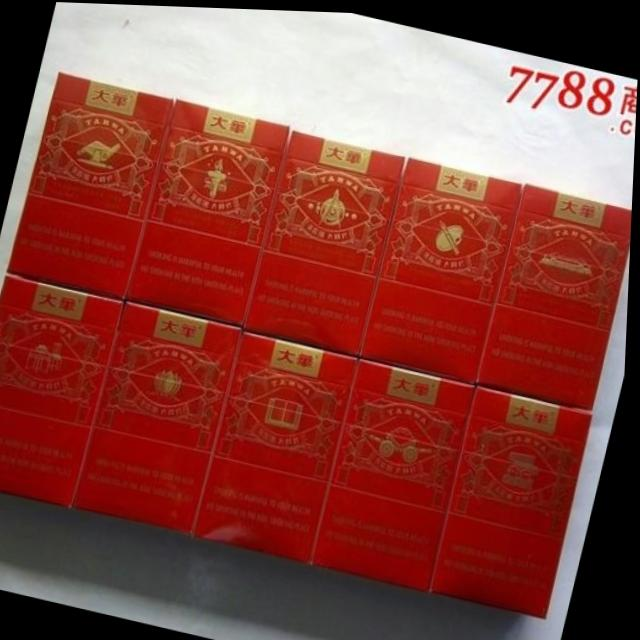box: (77, 299, 247, 535), (314, 354, 479, 590), (196, 327, 362, 561), (434, 381, 598, 615), (10, 71, 175, 299), (128, 97, 291, 324), (362, 153, 524, 381), (246, 127, 406, 354), (480, 181, 633, 406), (0, 272, 128, 508)
